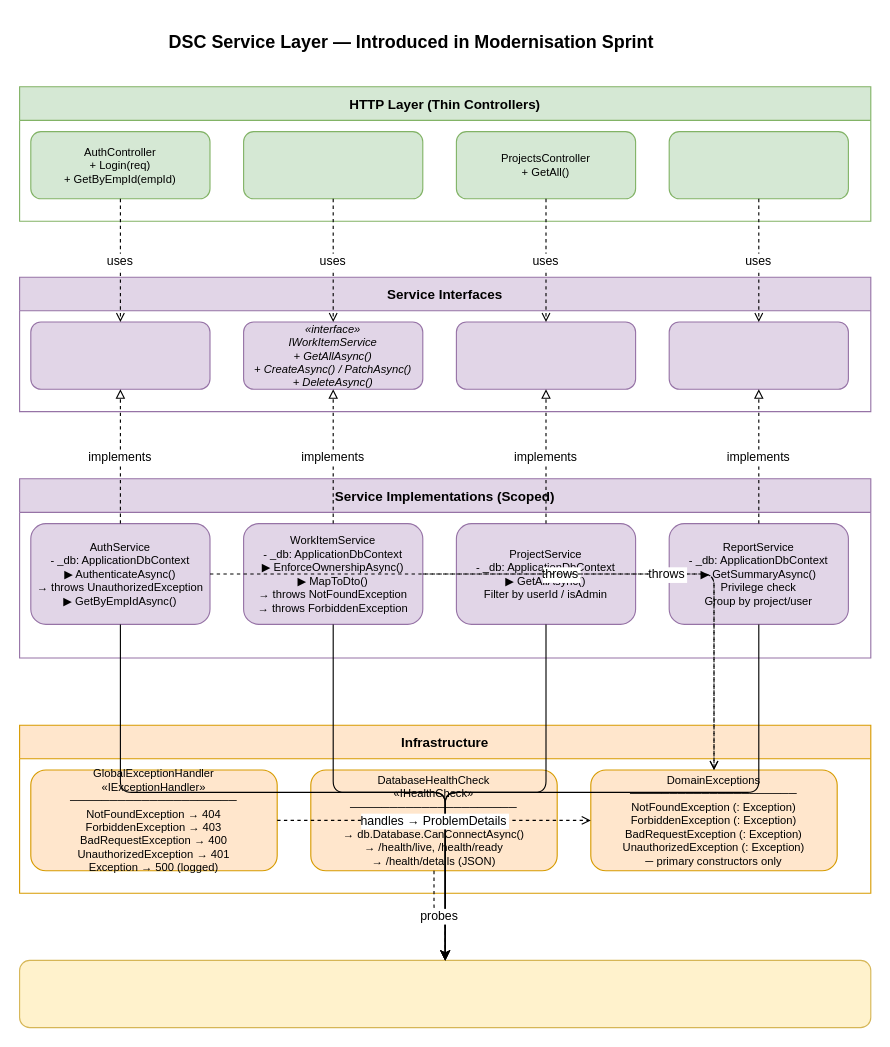
The diagram is 890 pixels wide and 1047 high, and some of its shapes have lost their labels. Here are the shapes that lost their labels. From the top down, the centre of each, then its label:
[332,164]: ItemsController + CallerId: Guid + GetAll() / Create() + Patch() / Delete()
[758,164]: ReportsController + GetSummary(...)
[120,355]: «interface» IAuthService + AuthenticateAsync() + GetByEmpIdAsync()
[545,355]: «interface» IProjectService + GetAllAsync(userId, isAdmin)
[758,355]: «interface» IReportService + GetSummaryAsync( from,to,projectId,userId)
[444,993]: ApplicationDbContext (EF Core 9)
